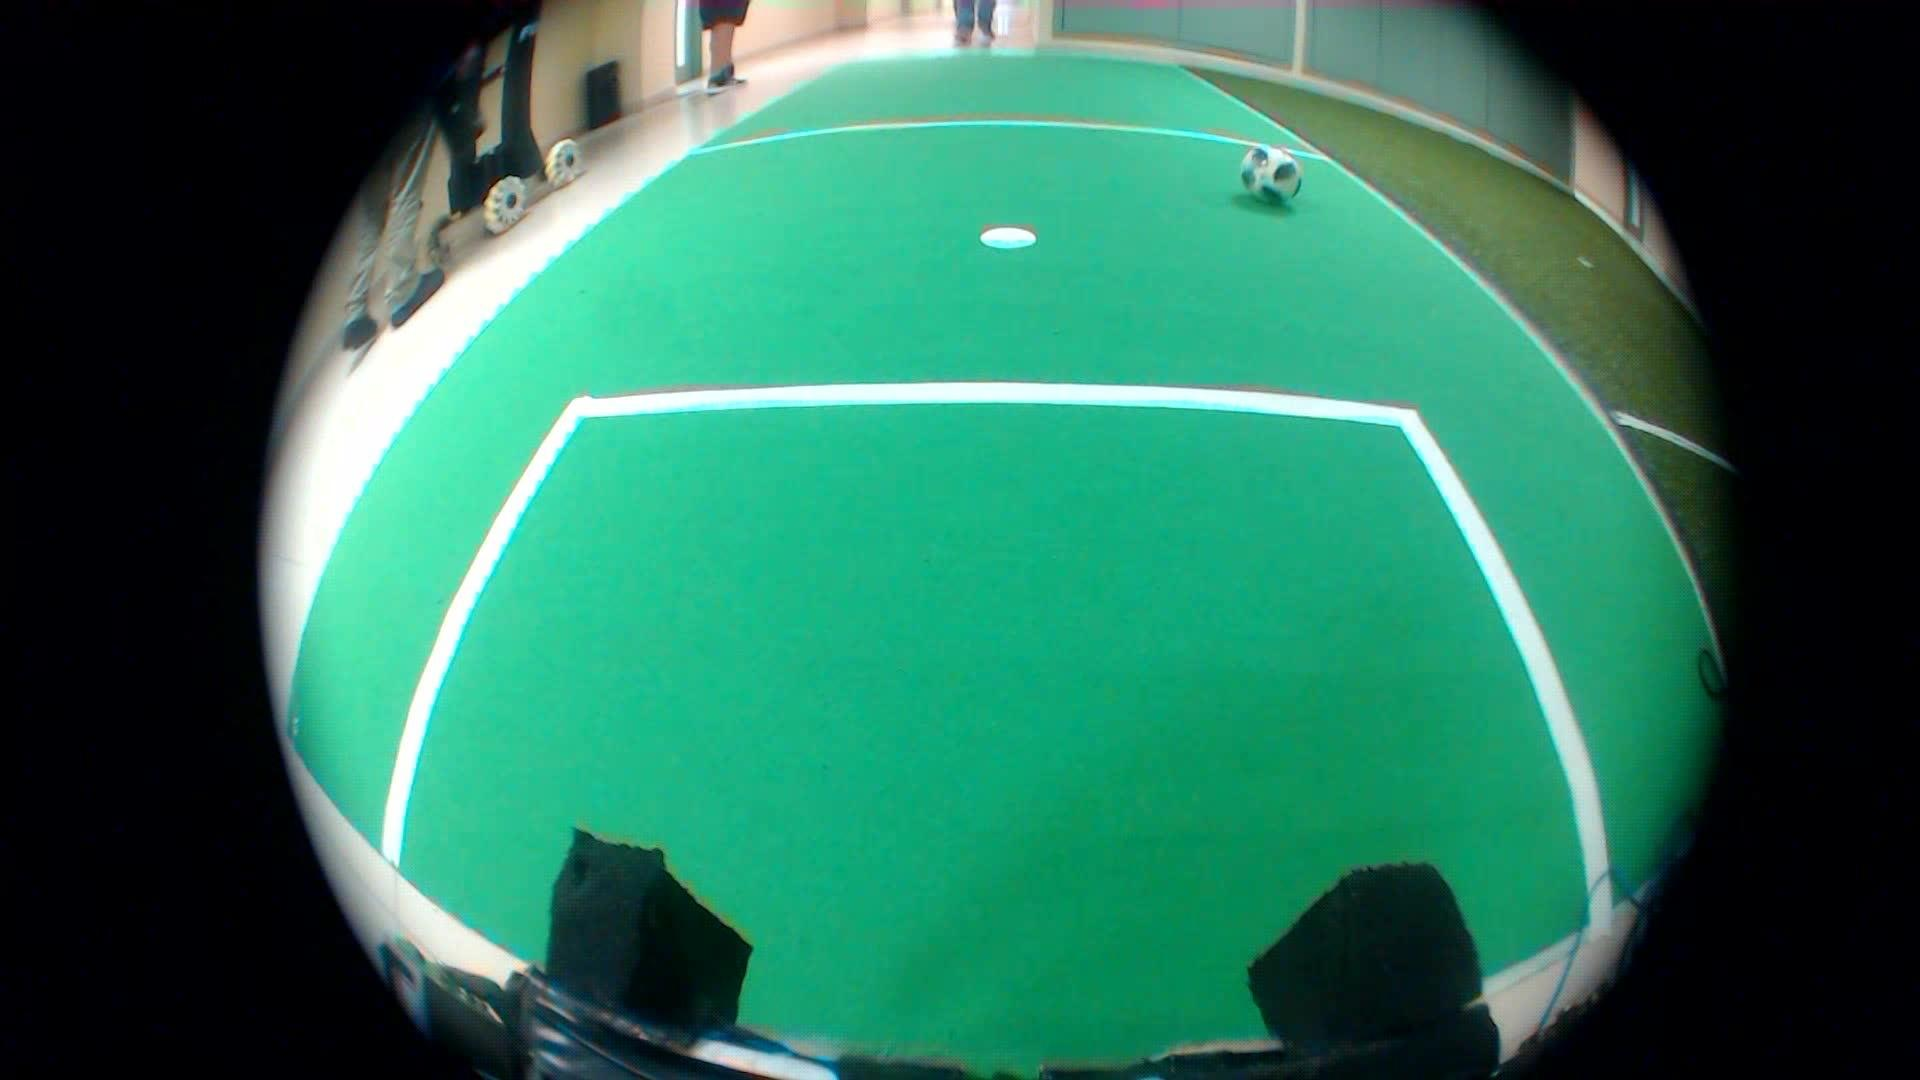ball: (1232, 132, 1299, 208)
